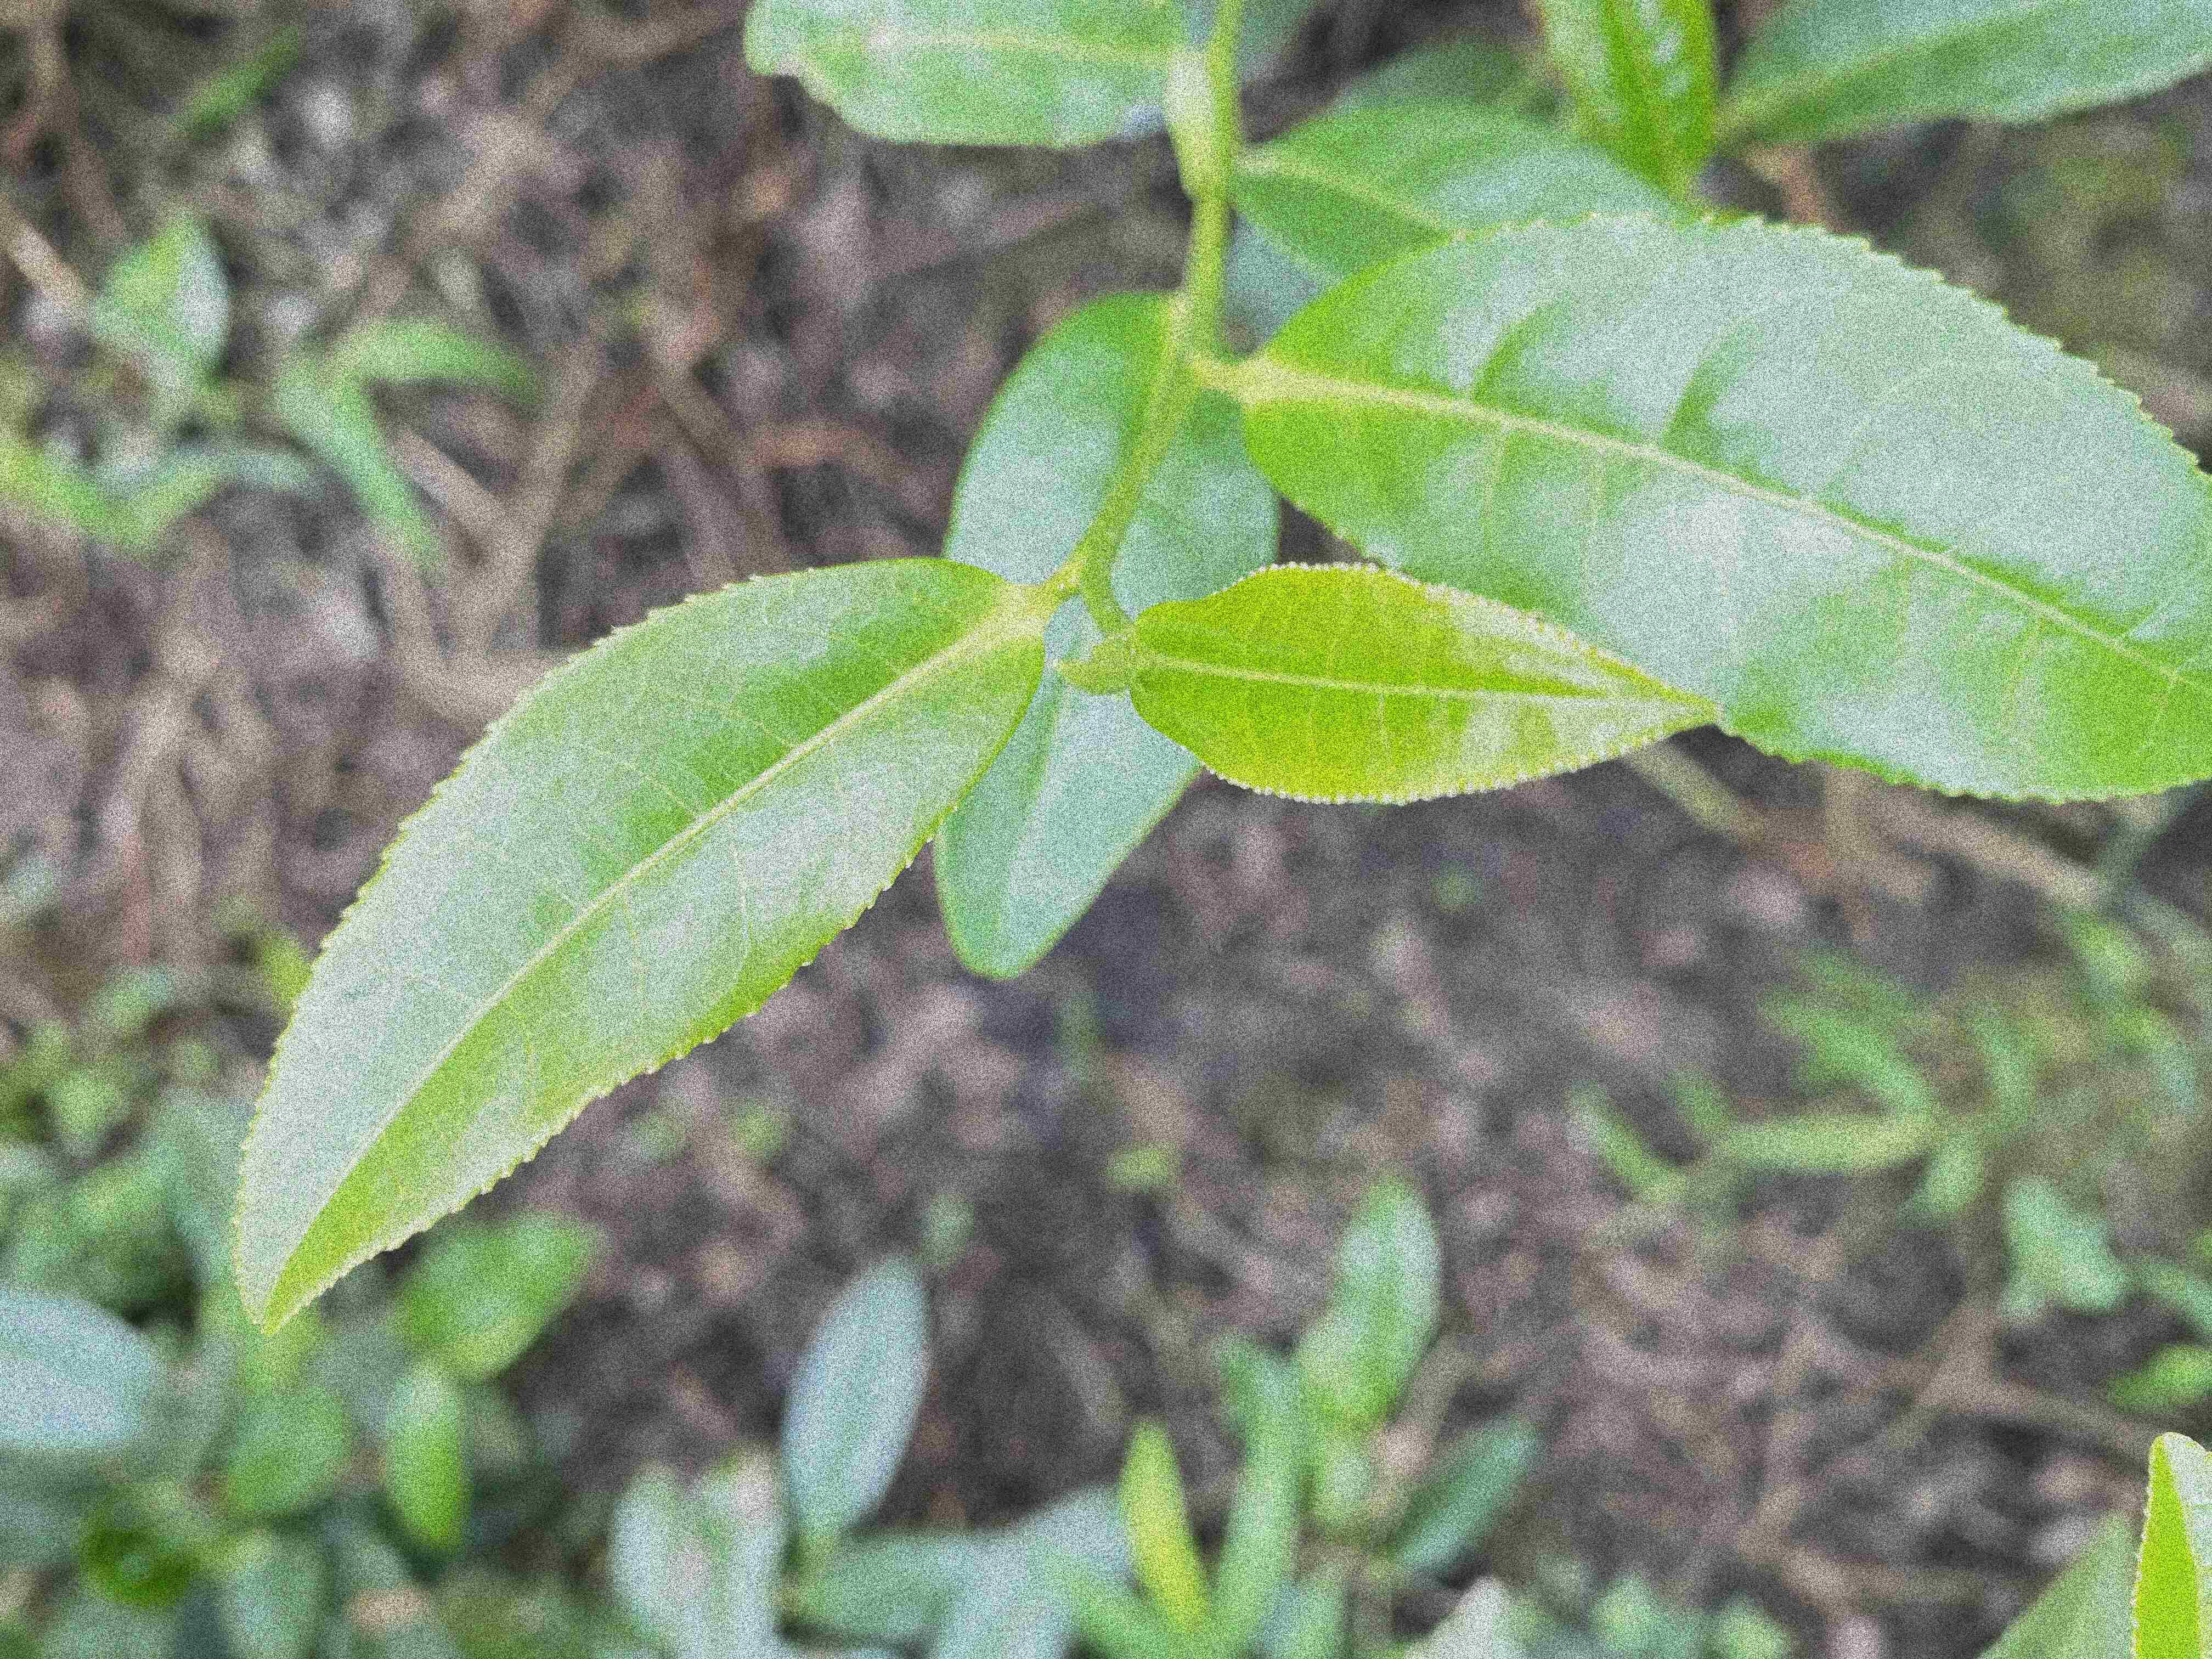healthy: (228, 556, 1045, 1337), (1245, 209, 2209, 803), (1125, 556, 1721, 809)
